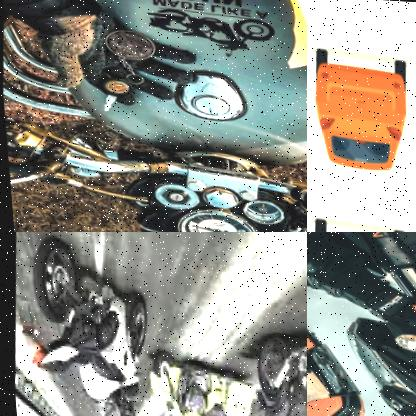bike: (17, 249, 160, 416), (307, 232, 416, 416), (245, 303, 307, 416), (142, 360, 263, 416)
car: (307, 43, 416, 172)
